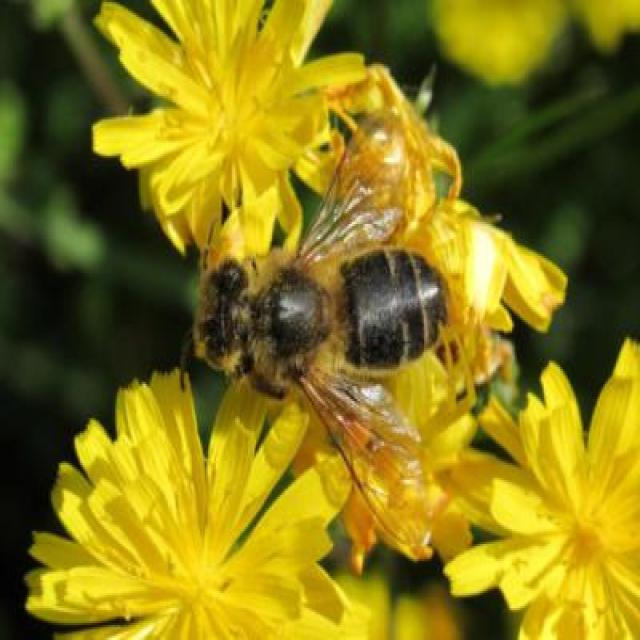antennae: (178, 329, 200, 393), (200, 216, 212, 277)
body: (200, 250, 450, 399)
insect: (177, 109, 456, 563)
wings: (290, 357, 434, 550), (291, 121, 407, 267)
